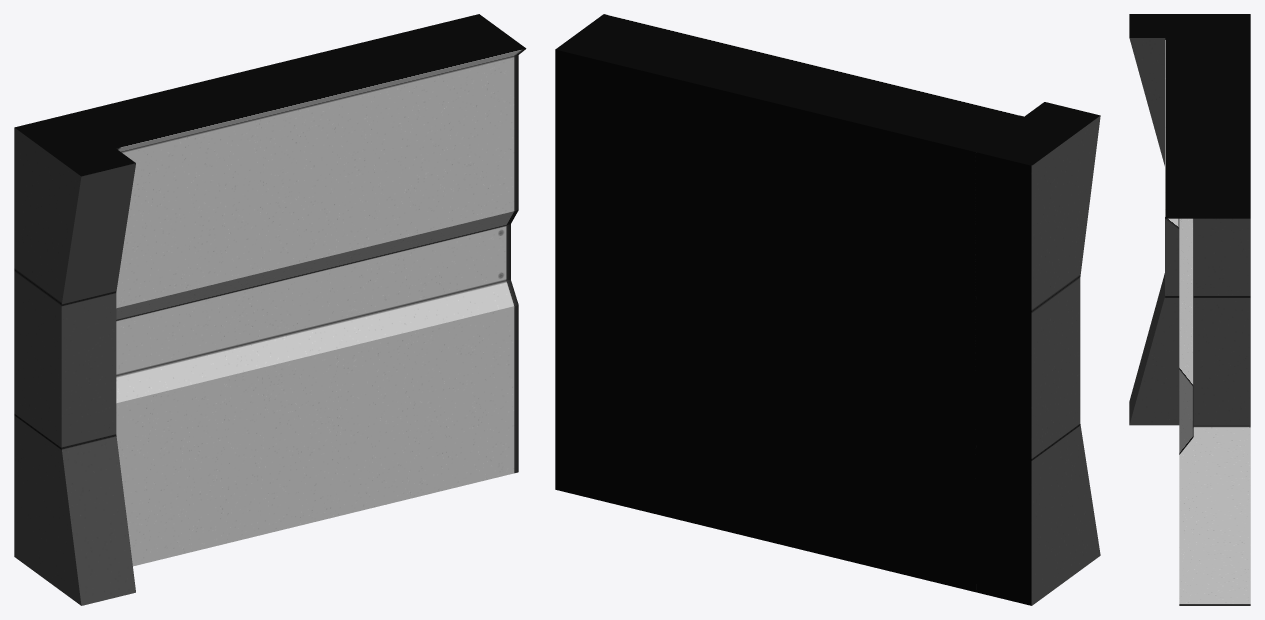
File: wall-1.fbx
3 renders of one model, left to right at view 1: azimuth 30°, elevation 25°; view 2: azimuth 150°, elevation 25°; view 3: azimuth 270°, elevation 25°, orthographic. The views are drawn at different scales.
Visible parts, largest first — view 1: pCube13, pCube31; view 2: pCube13, pCube31; view 3: pCube13, pCube31.
Part boxes in pixels (x1,y1,x2,y2): pCube13: (69, 14, 526, 566); pCube31: (14, 114, 135, 605); pCube13: (555, 14, 1023, 592); pCube31: (975, 102, 1100, 605); pCube13: (1165, 38, 1250, 605); pCube31: (1129, 14, 1250, 425).
Size of the model in its own units: 3.4 by 3 by 0.85.
Materials: 2 (2 with a texture image).
